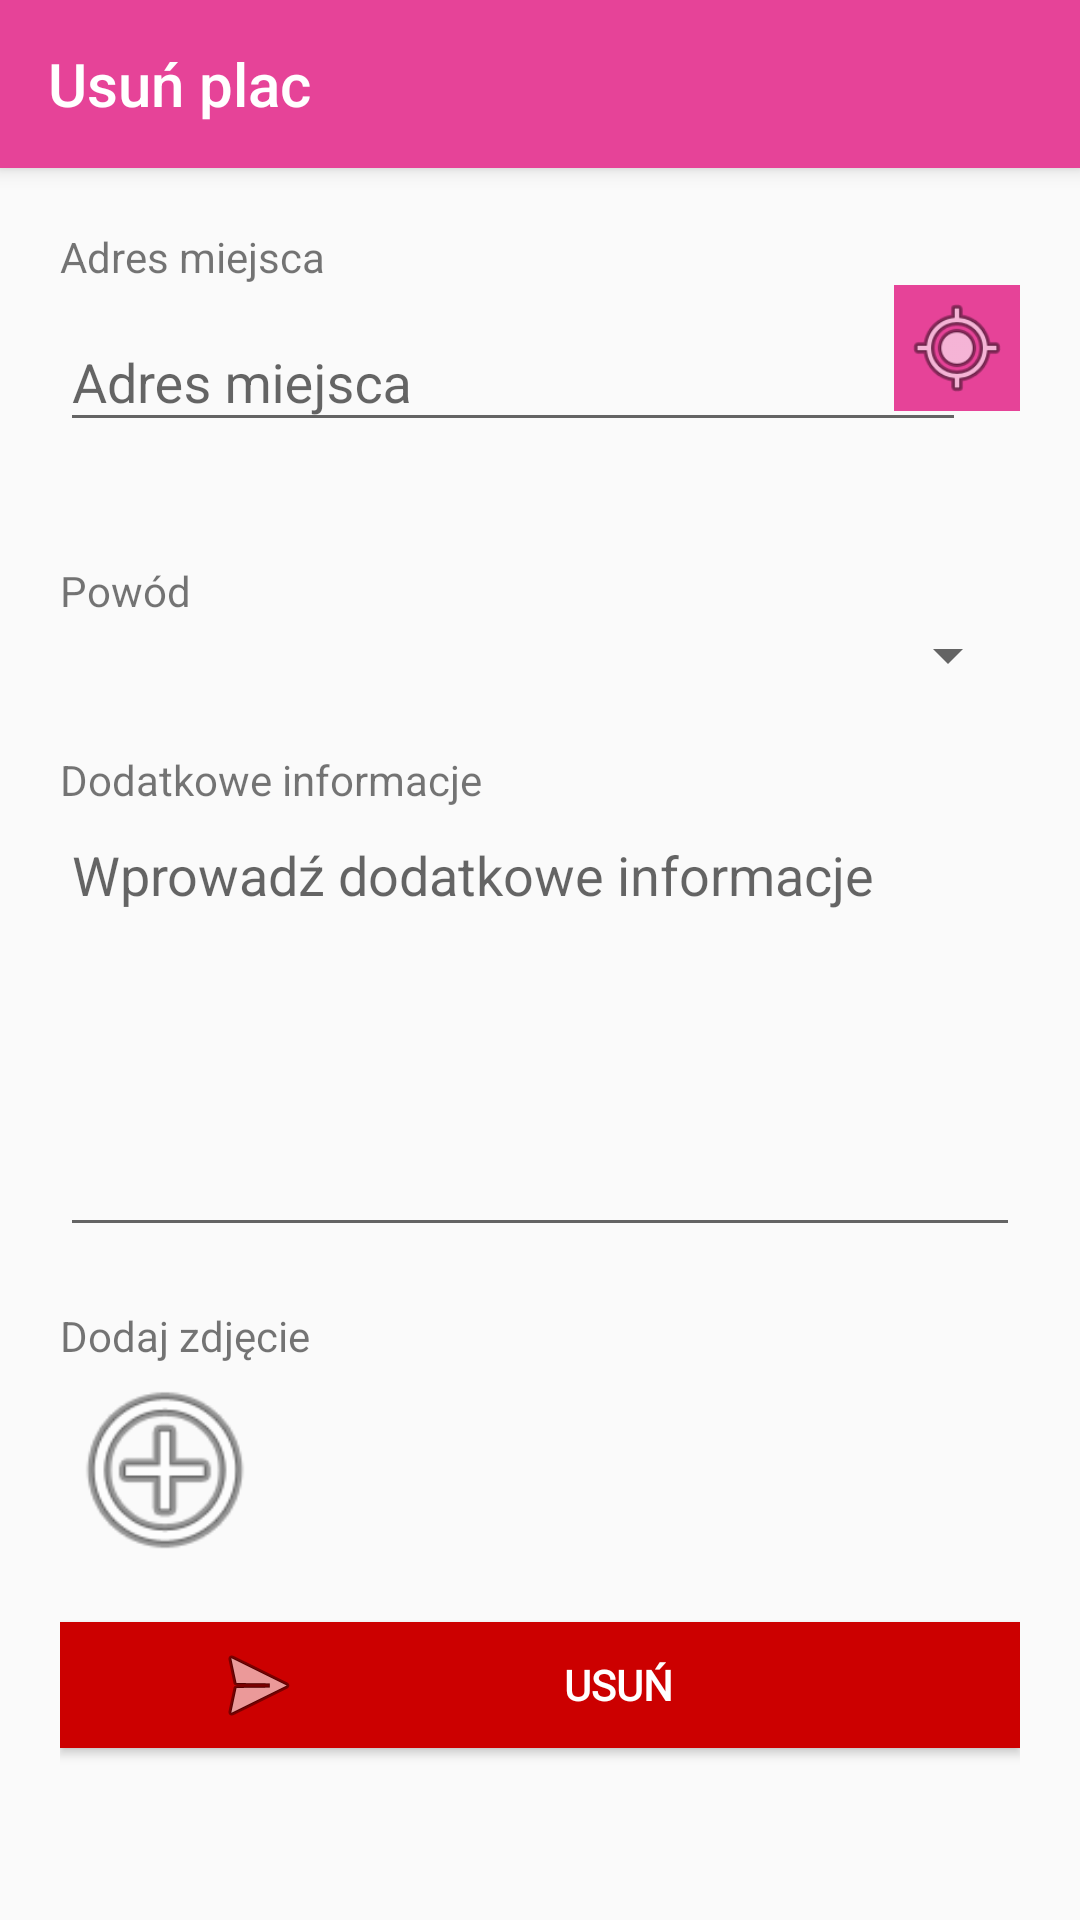

Icon click points for this 1080 x 1920 phone screenshot, format (x=x, y=y):
mylocation: (x=957, y=348)
